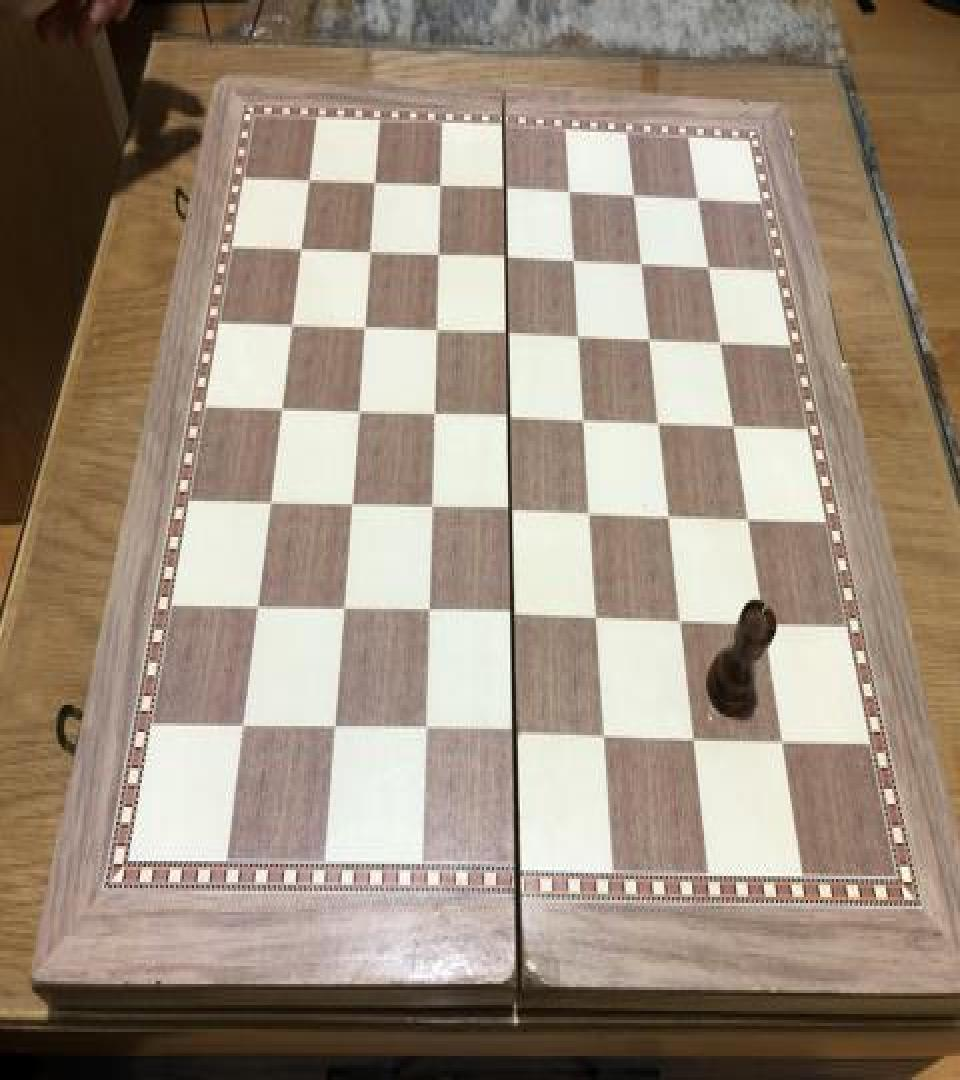xcorner: (592, 718, 616, 755), (688, 180, 712, 216), (624, 177, 648, 213), (559, 174, 583, 210), (495, 171, 519, 207), (430, 168, 454, 204), (365, 166, 389, 202), (300, 164, 324, 200), (699, 248, 723, 284), (631, 244, 655, 280), (564, 242, 588, 278), (496, 240, 520, 276), (428, 237, 452, 273), (359, 234, 383, 270), (291, 231, 315, 267), (710, 322, 734, 358), (639, 321, 663, 357), (568, 318, 592, 354), (497, 315, 521, 351), (425, 312, 449, 348), (353, 309, 377, 345), (281, 306, 305, 342), (723, 406, 747, 442), (648, 404, 672, 440), (573, 402, 597, 438), (498, 399, 522, 435), (422, 396, 446, 432), (346, 393, 370, 429), (270, 390, 294, 426), (737, 500, 761, 536), (658, 498, 682, 534), (579, 495, 603, 531), (499, 492, 523, 528), (419, 489, 443, 525), (339, 486, 363, 522), (258, 484, 282, 520), (753, 604, 777, 640), (669, 603, 693, 639), (585, 600, 609, 636), (501, 597, 525, 633), (416, 594, 440, 630), (330, 591, 354, 627), (245, 590, 269, 626), (772, 723, 796, 759), (682, 722, 706, 758), (502, 716, 526, 752), (412, 714, 436, 750), (321, 711, 345, 747), (229, 708, 253, 744)
